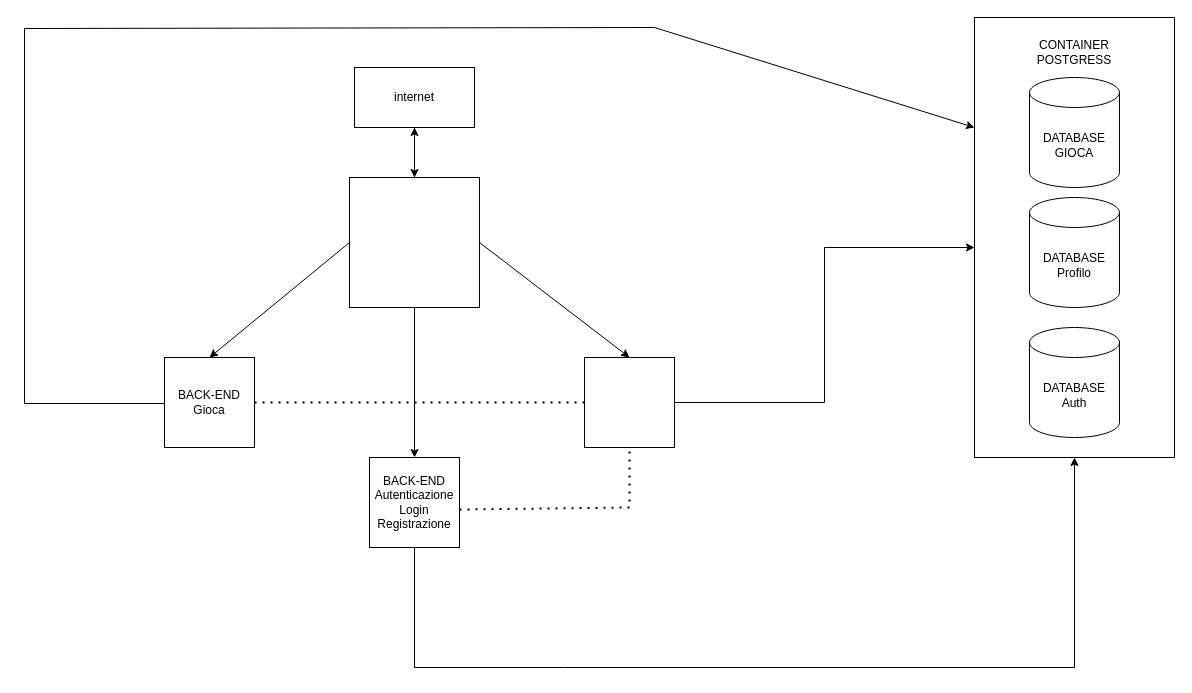
This 1192x693 diagram has some shape labels left out. The box of each missing label's shape, as (x1, y1, x2, y2) in pixels:
BACK-END Profilo: (584, 356, 674, 448)
reverse proxy NGNIX FRONTEND: (348, 176, 480, 308)
